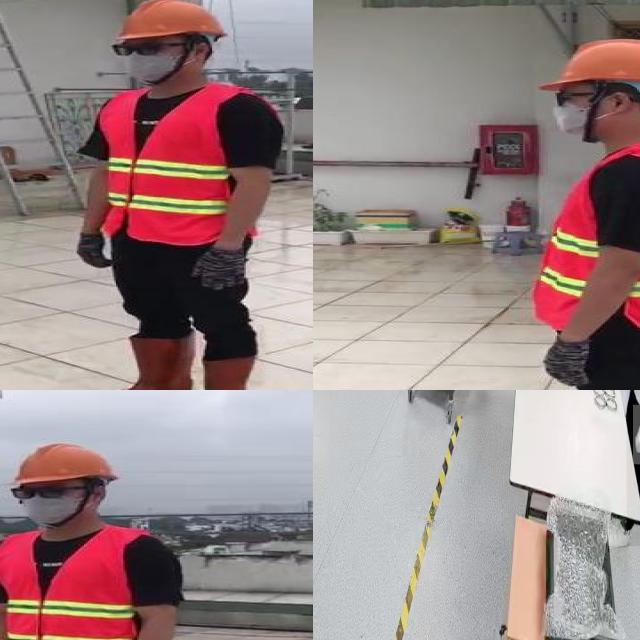boots: (94, 335, 196, 390), (173, 356, 255, 390)
face_mask: (111, 40, 185, 86), (8, 482, 80, 524), (547, 88, 608, 136)
glasses: (4, 483, 73, 502), (105, 38, 167, 58)
hand_glove: (523, 341, 596, 387), (192, 247, 253, 292), (75, 232, 118, 269), (632, 404, 640, 465)
head_helmet: (2, 440, 123, 488), (539, 37, 640, 93), (108, 0, 229, 41)
person: (55, 0, 283, 390), (512, 40, 640, 390), (0, 441, 197, 640)
vest: (98, 87, 269, 243), (532, 143, 640, 340), (0, 526, 143, 640)
